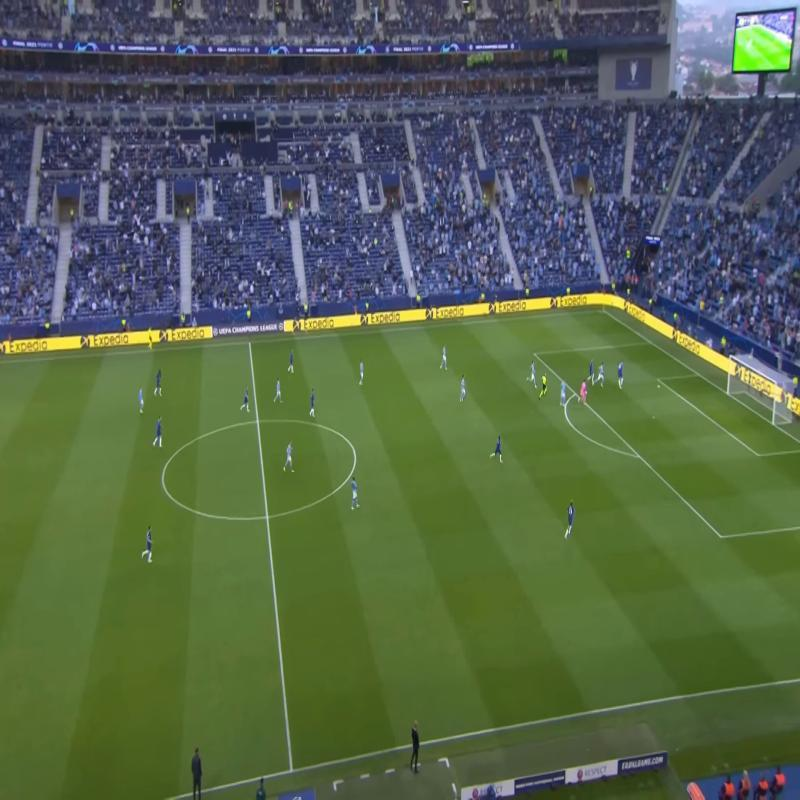1: (596, 303, 612, 318)
10: (569, 389, 583, 401)
11: (632, 450, 646, 463)
12: (714, 532, 728, 546)
13: (243, 338, 257, 351)
14: (251, 415, 264, 428)
15: (260, 510, 274, 524)
16: (284, 762, 300, 780)
2: (643, 335, 658, 349)
3: (691, 368, 706, 382)
7: (652, 372, 666, 386)
8: (752, 447, 766, 461)
9: (527, 347, 541, 361)
c: (348, 446, 364, 462), (156, 473, 170, 488)
